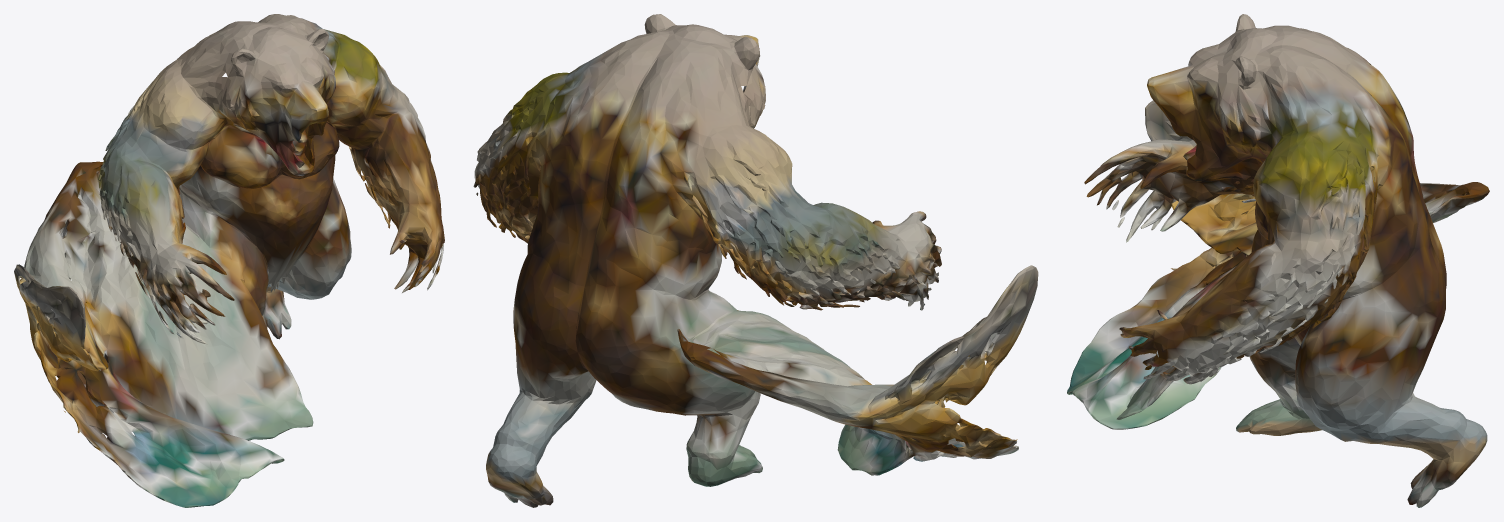
Rendered from queenAnt.glb.
The picture shows the model from 3 angles, left to right: view 1: azimuth 30°, elevation 25°; view 2: azimuth 150°, elevation 25°; view 3: azimuth 270°, elevation 25°; orthographic projection. The views are drawn at different scales.
Visible parts, largest first — view 1: world; view 2: world; view 3: world.
Boxes of the visible parts, x1,y1,x2,y2 form: world: (14, 14, 444, 507); world: (473, 14, 1038, 507); world: (1067, 14, 1489, 507).
Size of the model in its own units: 1.11 by 1 by 0.8698.
